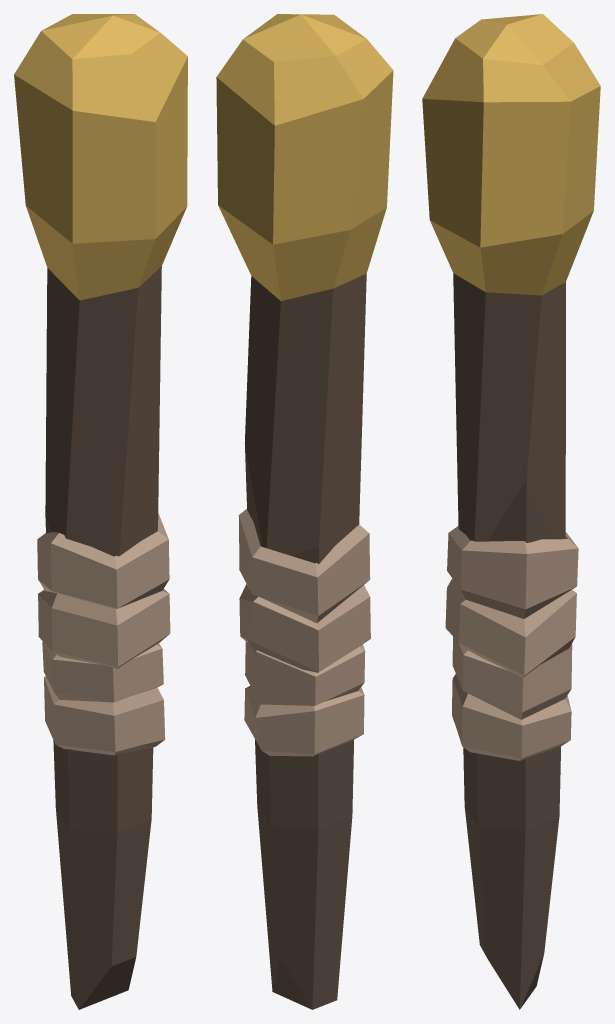
The model's file is torch.glb.
3 views of the same model, side by side, from view 1: azimuth 30°, elevation 25°; view 2: azimuth 150°, elevation 25°; view 3: azimuth 270°, elevation 25° (orthographic).
Parts seen in each view (by area): view 1: Torch; view 2: Torch; view 3: Torch.
Part boxes in pixels (x1=…): Torch: x1=14, y1=14, x2=187, y2=1009; Torch: x1=216, y1=14, x2=393, y2=1009; Torch: x1=422, y1=14, x2=600, y2=1009.
Size of the model in its own units: 0.1944 by 1.27 by 0.2105.
